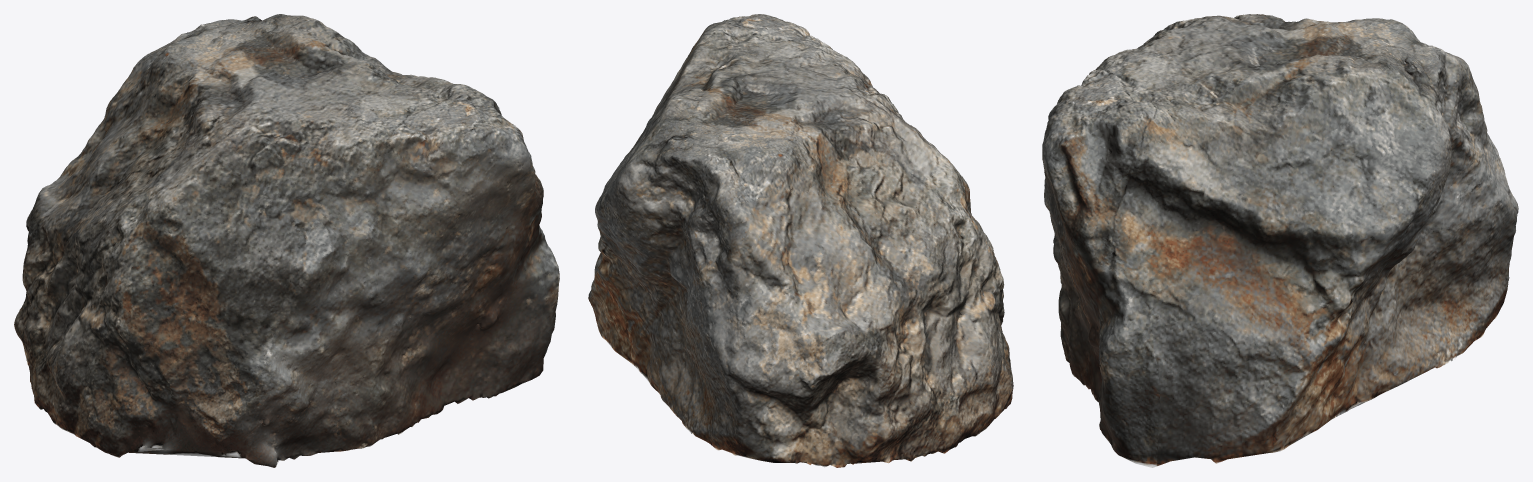
Rendered from sparse1.glb.
3 renders of one model, left to right at view 1: azimuth 30°, elevation 25°; view 2: azimuth 150°, elevation 25°; view 3: azimuth 270°, elevation 25°, orthographic. The views are drawn at different scales.
Parts seen in each view (by area): view 1: Node; view 2: Node; view 3: Node.
Part boxes in pixels (x1,y1,x2,y2): Node: (14,14,559,467); Node: (588,14,1013,467); Node: (1042,14,1518,467).
Bounding box in the file's own units: 4.22 × 2.9 × 3.75.
1 material, 1 textured.
